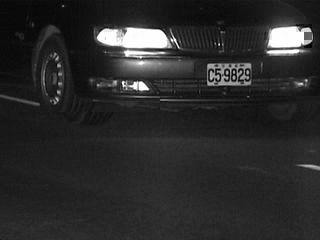plate: (205, 61, 253, 87)
